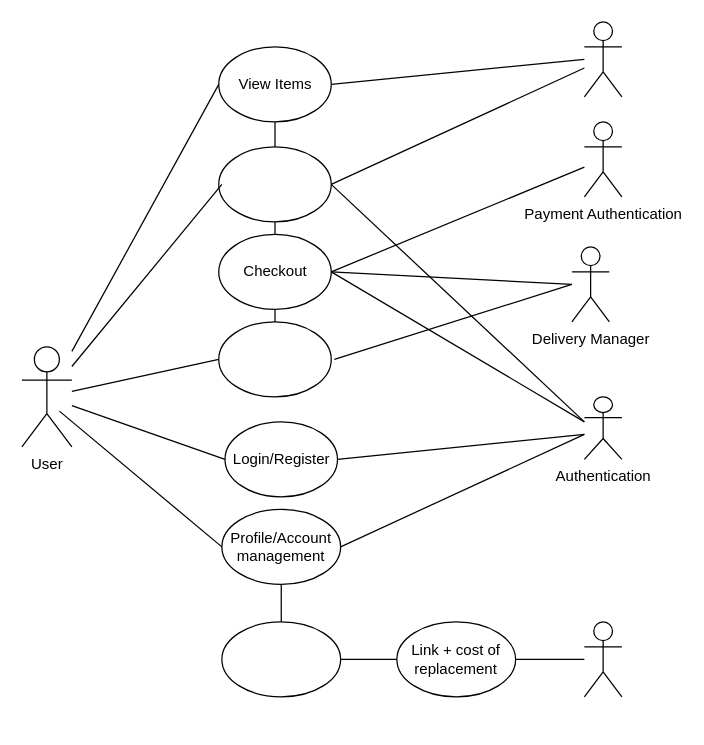
The diagram is 704 pixels wide and 745 high, and some of its shapes have lost their labels. Each missing label, with the centre of its shape:
DB of items: the point at 602,59
Lost Item: the point at 281,659
Pickup/Delivery: the point at 274,359
Rent Item: the point at 274,184
Walmart DB: the point at 602,659
